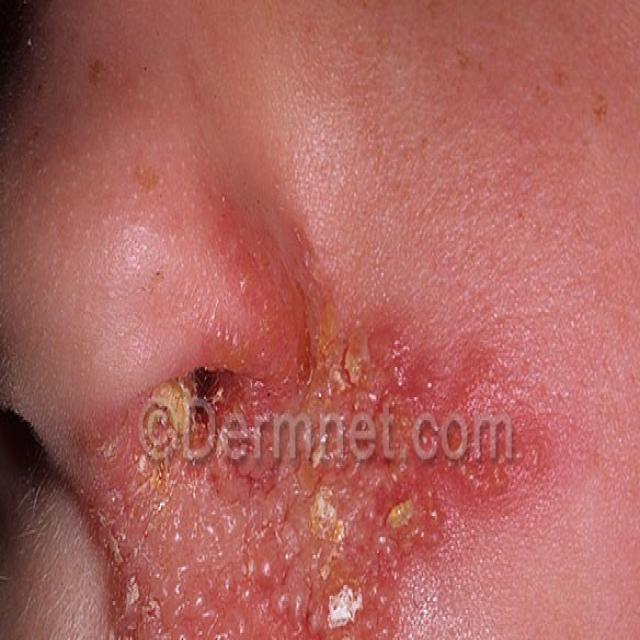Viral Infections: (111, 450, 406, 640), (315, 302, 526, 518), (126, 302, 254, 492), (319, 542, 373, 640)
